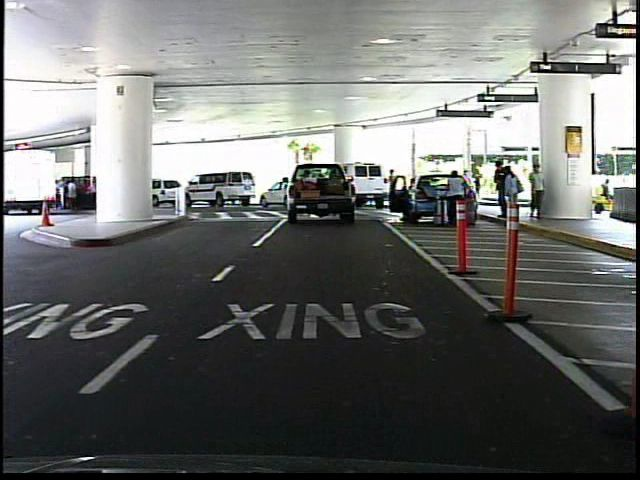person: (441, 163, 468, 229), (525, 159, 547, 224), (385, 165, 403, 211)
